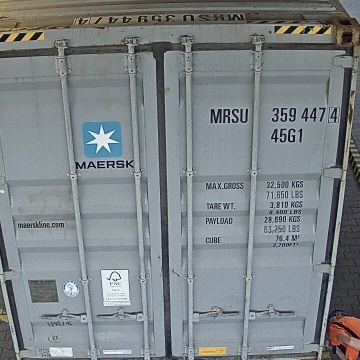serial_id: (211, 107, 340, 122)
